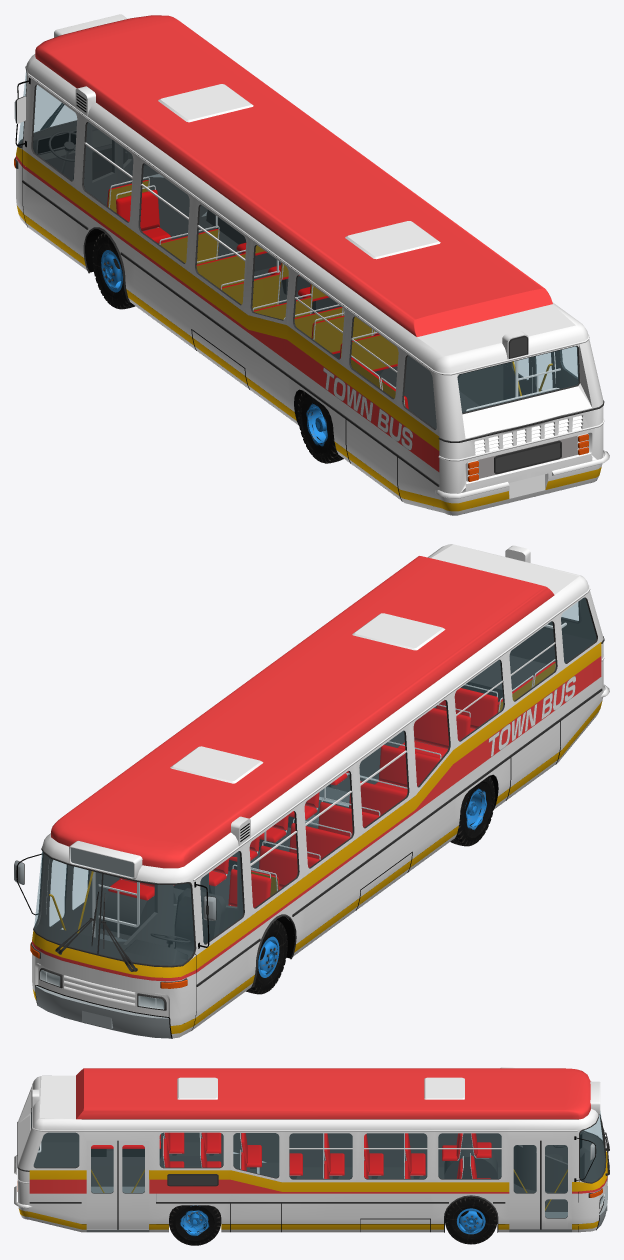
The model's file is bus_town.glb.
3 renders of one model, top to bottom at view 1: azimuth 30°, elevation 25°; view 2: azimuth 150°, elevation 25°; view 3: azimuth 270°, elevation 25°, orthographic. The views are drawn at different scales.
Parts seen in each view (by area): view 1: body, wheel_FL, wheel_RL; view 2: body, wheel_FL, wheel_RL; view 3: body, wheel_FR, wheel_RR.
Boxes of the visible parts, bbox=[...] form: body: bbox=[14, 14, 609, 515]; wheel_FL: bbox=[23, 168, 135, 308]; wheel_RL: bbox=[297, 391, 438, 493]; body: bbox=[14, 544, 609, 1038]; wheel_FL: bbox=[196, 914, 296, 994]; wheel_RL: bbox=[451, 692, 607, 845]; body: bbox=[14, 1067, 609, 1245]; wheel_FR: bbox=[444, 1193, 578, 1244]; wheel_RR: bbox=[27, 1193, 220, 1245].
Bounding box in the file's own units: 2.56 × 2.6 × 10.5.
20 materials, 3 textured.
